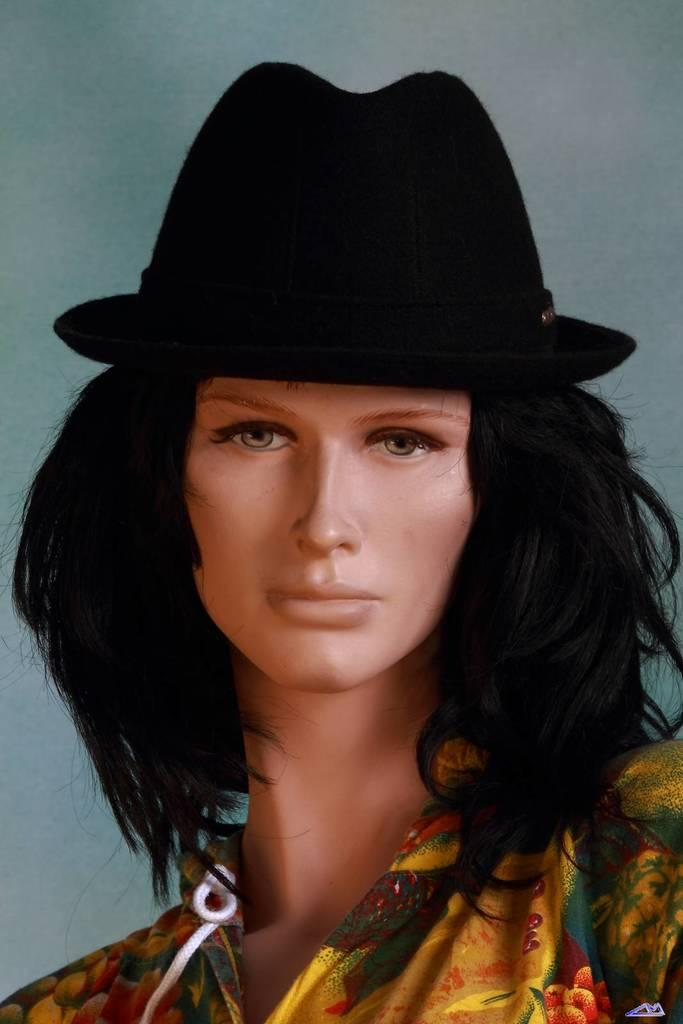Hat: (51, 63, 637, 386)
